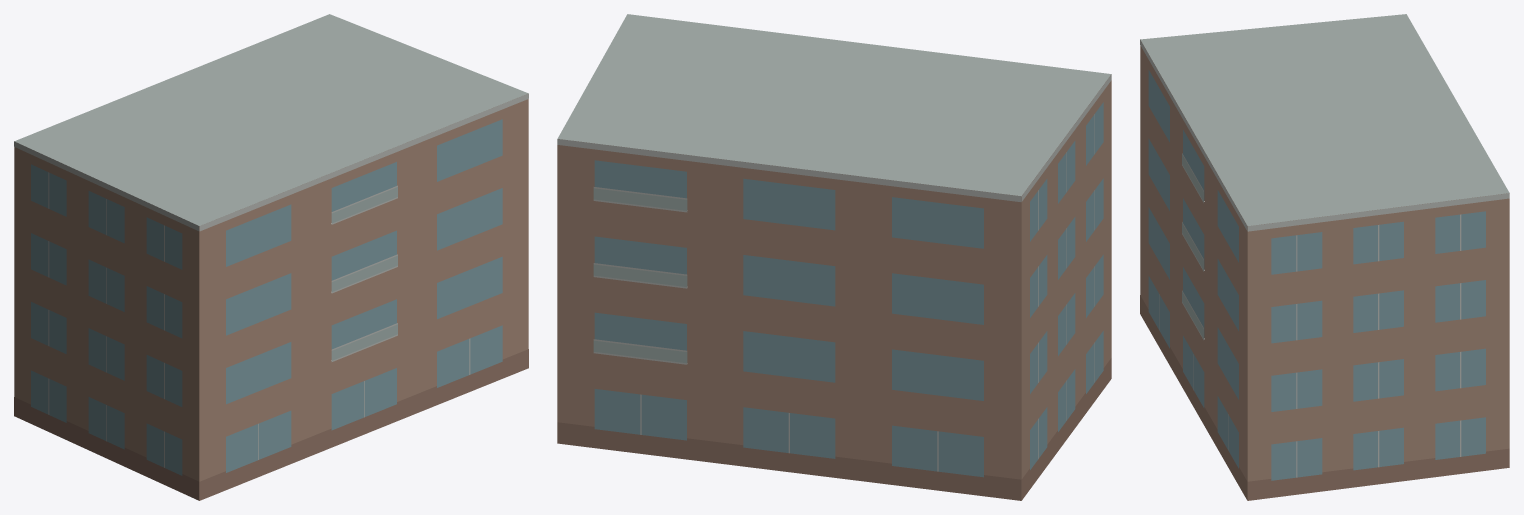
Rendered from survey-upis-32913584.glb.
3 views of the same model, side by side, from view 1: azimuth 30°, elevation 25°; view 2: azimuth 150°, elevation 25°; view 3: azimuth 270°, elevation 25° (orthographic). The views are drawn at different scales.
Parts seen in each view (by area): view 1: survey-upis-32913584.tmp; view 2: survey-upis-32913584.tmp; view 3: survey-upis-32913584.tmp.
Boxes of the visible parts, box(x1,y1,x2,y2) form: survey-upis-32913584.tmp: box(14, 14, 528, 500); survey-upis-32913584.tmp: box(557, 14, 1111, 500); survey-upis-32913584.tmp: box(1140, 14, 1509, 500).
Size of the model in its own units: 20.39 by 12.3 by 15.
